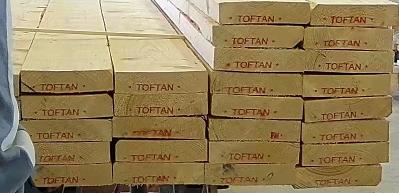Wood-Plank: (209, 70, 303, 95), (306, 95, 393, 122), (20, 94, 112, 119), (115, 69, 209, 93), (20, 120, 112, 144), (312, 0, 399, 25), (114, 93, 208, 116), (212, 96, 302, 120), (115, 139, 207, 162), (215, 48, 305, 71), (22, 164, 112, 187), (22, 69, 112, 92), (305, 27, 394, 50), (306, 50, 394, 73), (209, 120, 301, 142), (22, 142, 110, 165), (113, 162, 205, 184), (213, 26, 304, 48), (303, 143, 390, 166), (205, 163, 295, 185), (220, 2, 309, 24), (113, 117, 206, 138), (304, 75, 392, 97), (303, 121, 390, 143), (296, 166, 383, 187), (209, 143, 299, 163)
